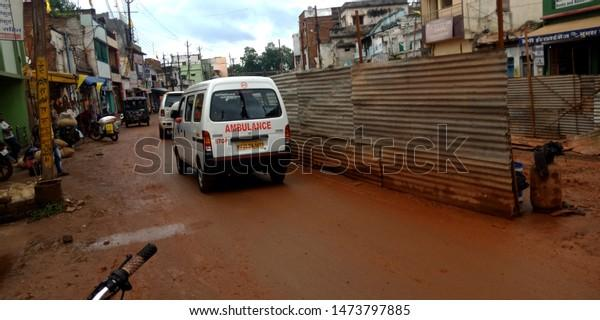ER: (173, 75, 290, 193)
